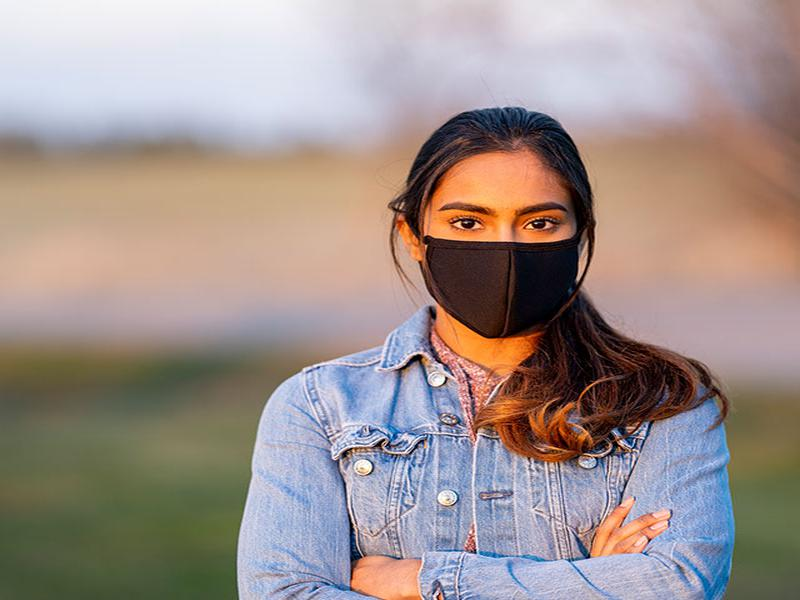mask: (420, 230, 581, 339)
